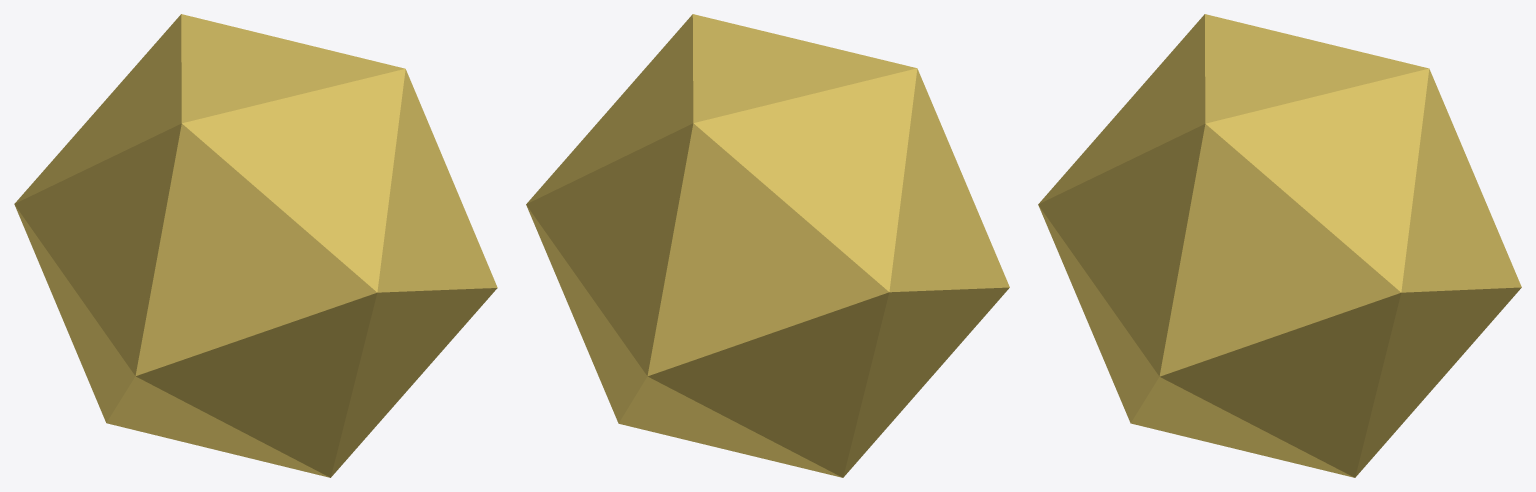
The model's file is cozyjam_prop_trashball_a_v001.fbx.
3 views of the same model, side by side, from view 1: azimuth 30°, elevation 25°; view 2: azimuth 150°, elevation 25°; view 3: azimuth 270°, elevation 25° (orthographic).
Visible parts, largest first — view 1: Icosphere; view 2: Icosphere; view 3: Icosphere.
Boxes of the visible parts, box(x1,y1,x2,y2) form: Icosphere: box(14, 14, 497, 477); Icosphere: box(526, 14, 1009, 477); Icosphere: box(1038, 14, 1521, 477).
Bounding box in the file's own units: 21.35 × 19.93 × 24.63.
